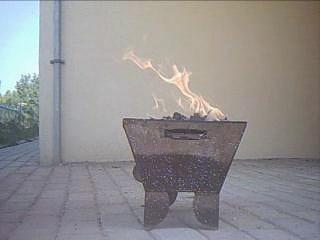fire: (125, 49, 226, 124)
